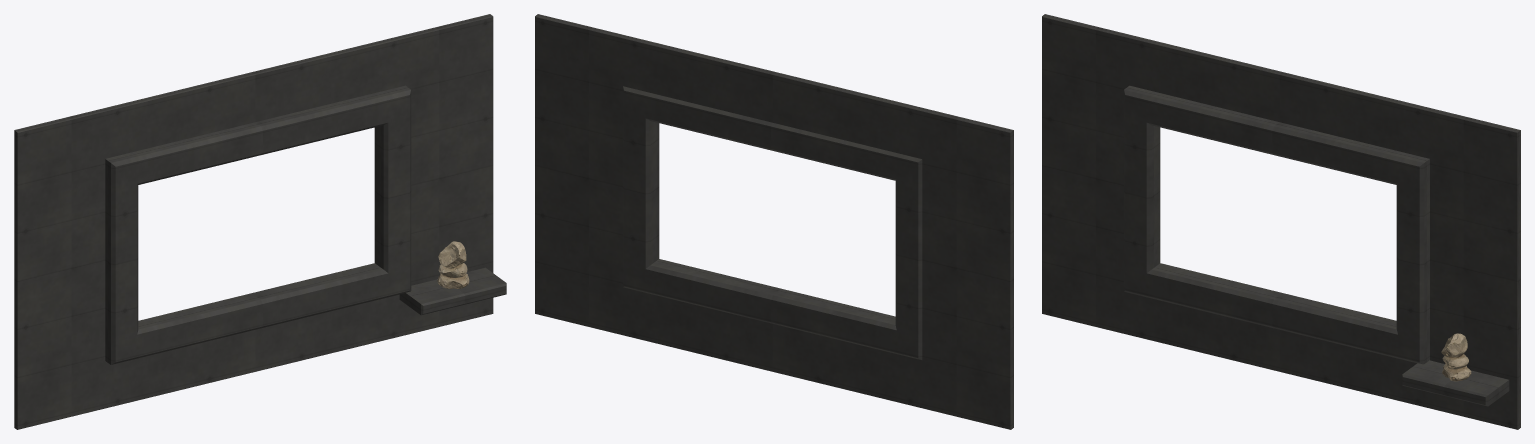
File: frame_beton.glb
The picture shows the model from 3 angles, left to right: view 1: azimuth 30°, elevation 25°; view 2: azimuth 150°, elevation 25°; view 3: azimuth 330°, elevation 25°; orthographic projection.
Parts seen in each view (by area): view 1: wall-panel, reveal, shelf, prop-travertine; view 2: wall-panel, reveal; view 3: wall-panel, reveal, shelf, prop-travertine.
Part boxes in pixels (x1=…): wall-panel: x1=14, y1=14, x2=493, y2=429; reveal: x1=105, y1=85, x2=411, y2=364; shelf: x1=399, y1=267, x2=506, y2=315; prop-travertine: x1=437, y1=241, x2=469, y2=288; wall-panel: x1=535, y1=14, x2=1013, y2=429; reveal: x1=623, y1=86, x2=922, y2=359; wall-panel: x1=1042, y1=14, x2=1520, y2=429; reveal: x1=1124, y1=85, x2=1429, y2=364; shelf: x1=1402, y1=360, x2=1509, y2=406; prop-travertine: x1=1441, y1=333, x2=1471, y2=381.
Bounding box in the file's own units: 3.11 × 1.86 × 0.31.
3 materials, 3 textured.
